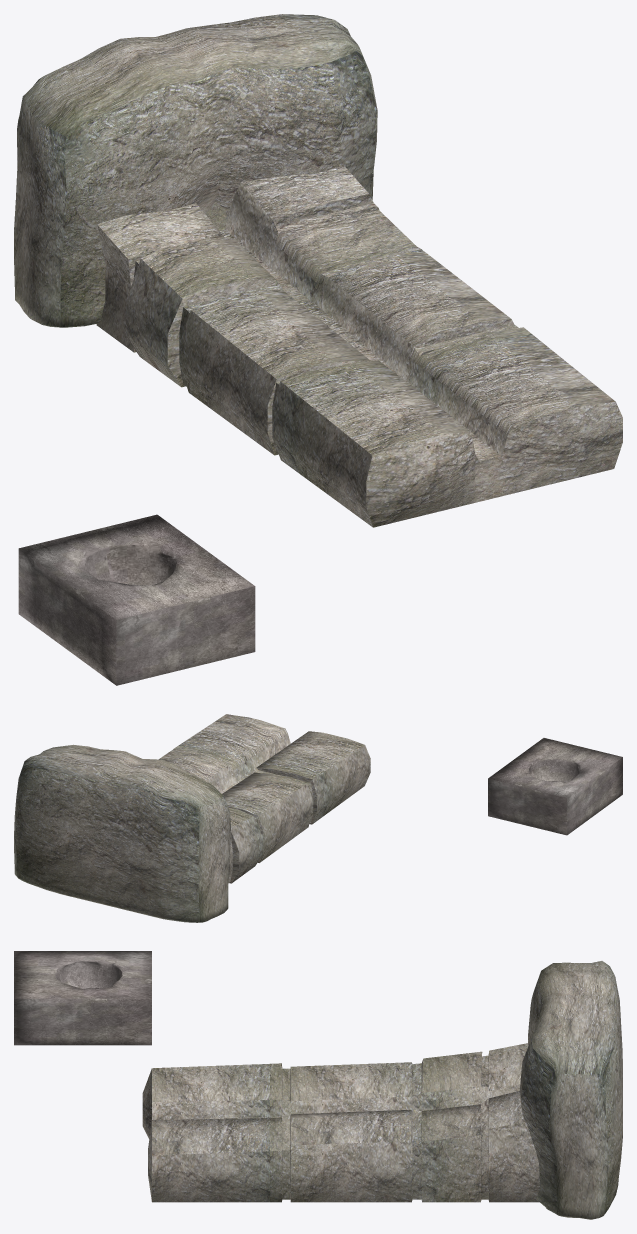
File: SmallWaterBasin.FBX
3 renders of one model, top to bottom at view 1: azimuth 30°, elevation 25°; view 2: azimuth 150°, elevation 25°; view 3: azimuth 270°, elevation 25°, orthographic. The views are drawn at different scales.
Visible parts, largest first — view 1: Box002, Box003, SmallWaterBasin; view 2: Box003, Box002, SmallWaterBasin; view 3: Box002, Box003, SmallWaterBasin.
Part boxes in pixels (<box>): Box002: <box>96,164,622,527</box>; Box003: <box>14,14,377,327</box>; SmallWaterBasin: <box>18,514,255,685</box>; Box003: <box>14,744,230,922</box>; Box002: <box>158,714,370,883</box>; SmallWaterBasin: <box>488,738,622,835</box>; Box002: <box>142,1043,539,1202</box>; Box003: <box>519,961,622,1219</box>; SmallWaterBasin: <box>14,951,151,1045</box>.
Bounding box in the file's own units: 279 × 96.55 × 319.
Materials: 3 (2 with a texture image).
